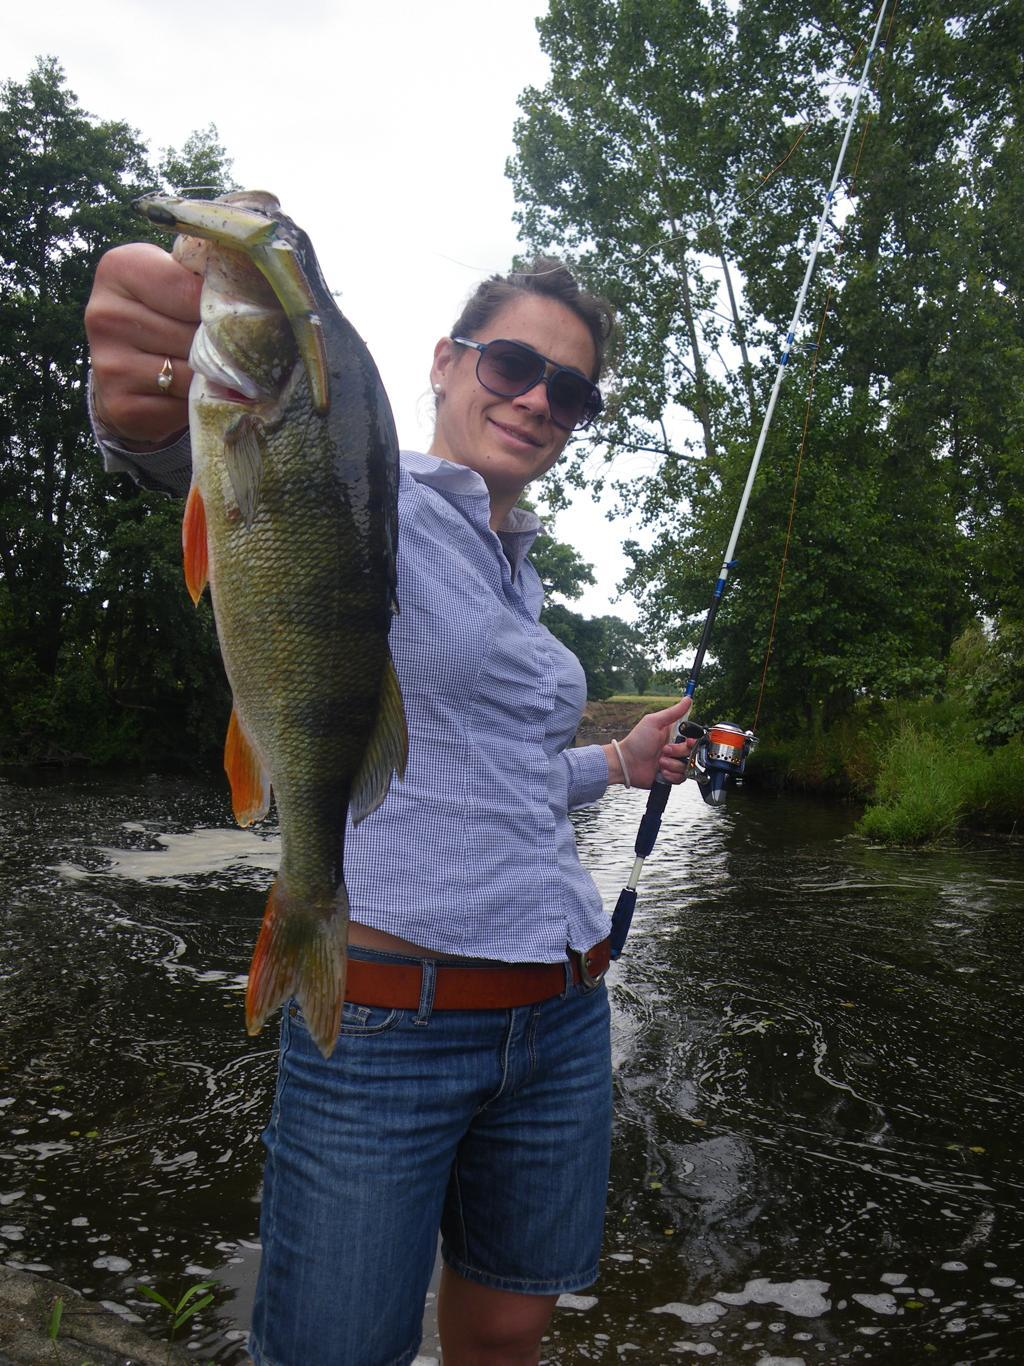face: (449, 297, 582, 473)
